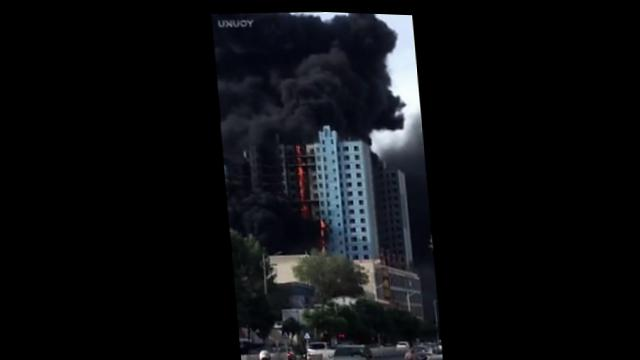fire: (296, 164, 303, 196), (317, 215, 324, 224), (295, 139, 300, 149)
